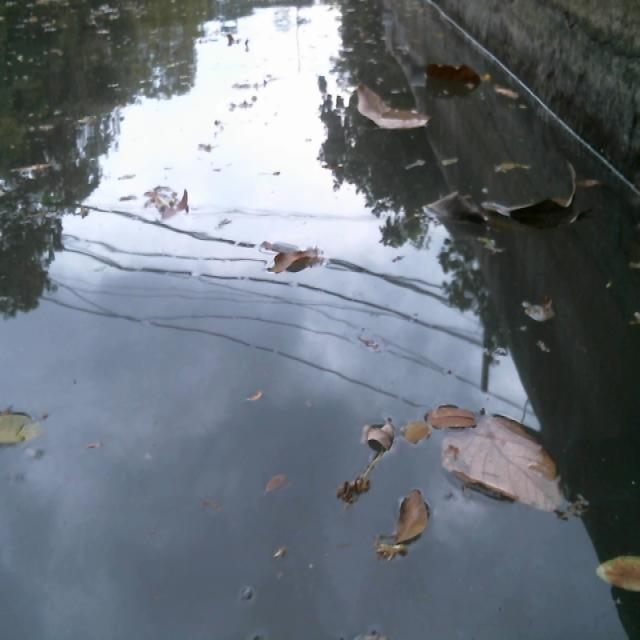Big-leaf: (445, 409, 594, 516), (488, 174, 584, 235), (350, 74, 428, 134), (418, 187, 492, 236), (414, 58, 484, 96)
Small-leaf: (392, 480, 432, 542), (595, 550, 640, 600), (0, 395, 39, 452), (360, 413, 401, 467), (265, 243, 327, 278), (422, 399, 480, 435), (148, 176, 195, 217), (515, 290, 562, 329), (486, 157, 537, 175)
